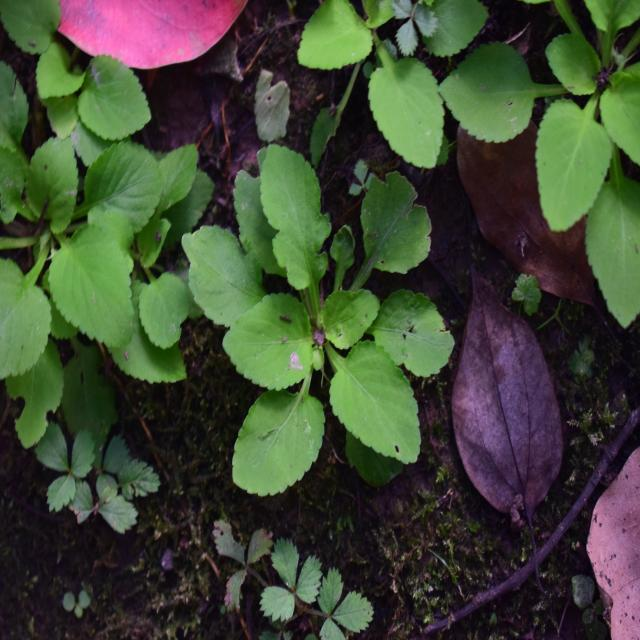Viola: (210, 152, 441, 468), (0, 100, 198, 392)
